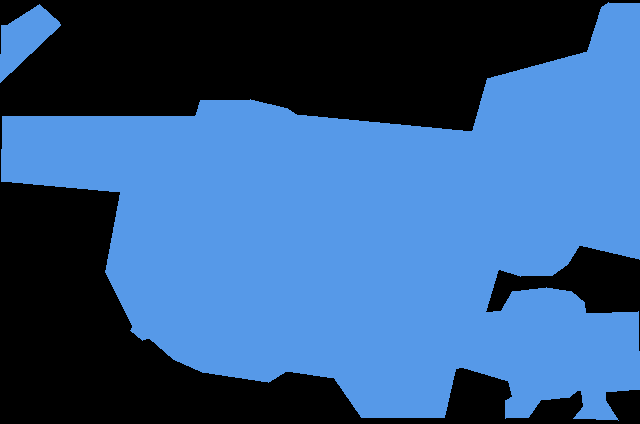Airplane: (0, 2, 640, 421)
